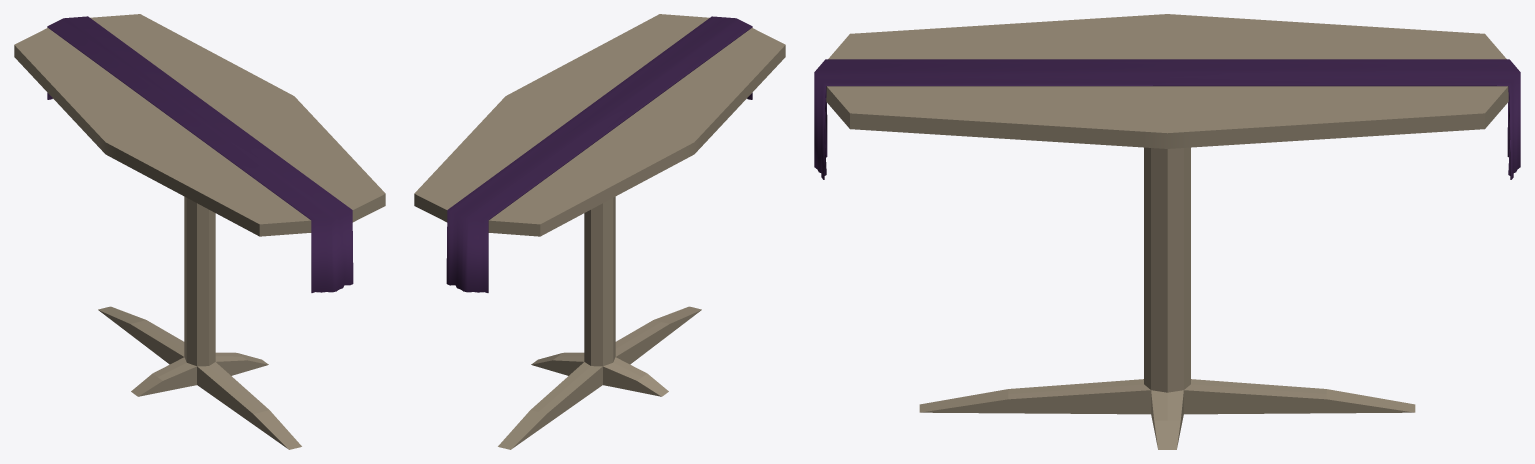
File: table_purpleTableCloth.fbx
3 views of the same model, side by side, from view 1: azimuth 30°, elevation 25°; view 2: azimuth 150°, elevation 25°; view 3: azimuth 270°, elevation 25° (orthographic). The views are drawn at different scales.
Visible parts, largest first — view 1: table, tableCloth; view 2: table, tableCloth; view 3: table, tableCloth.
Part boxes in pixels (x1=…): table: x1=14, y1=14, x2=385, y2=449; tableCloth: x1=47, y1=16, x2=353, y2=292; table: x1=414, y1=14, x2=785, y2=449; tableCloth: x1=446, y1=16, x2=752, y2=292; table: x1=826, y1=14, x2=1508, y2=449; tableCloth: x1=814, y1=59, x2=1520, y2=179.
Bounding box in the file's own units: 61.07 × 80.35 × 153.
